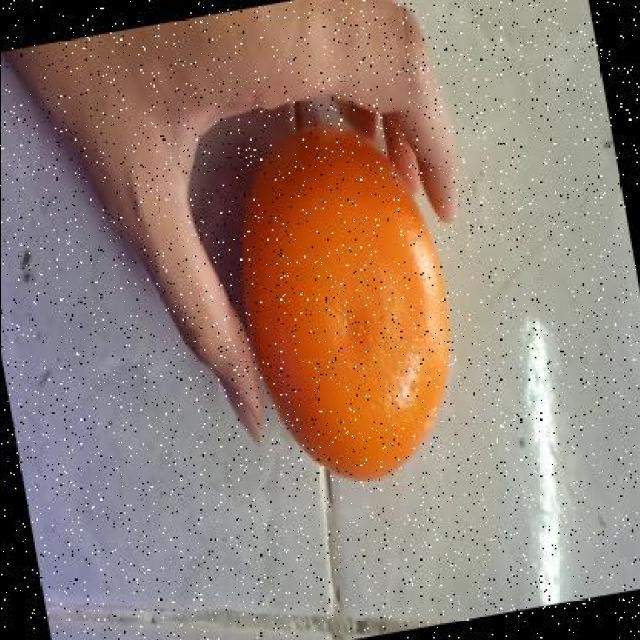Orange: (238, 124, 454, 482)
